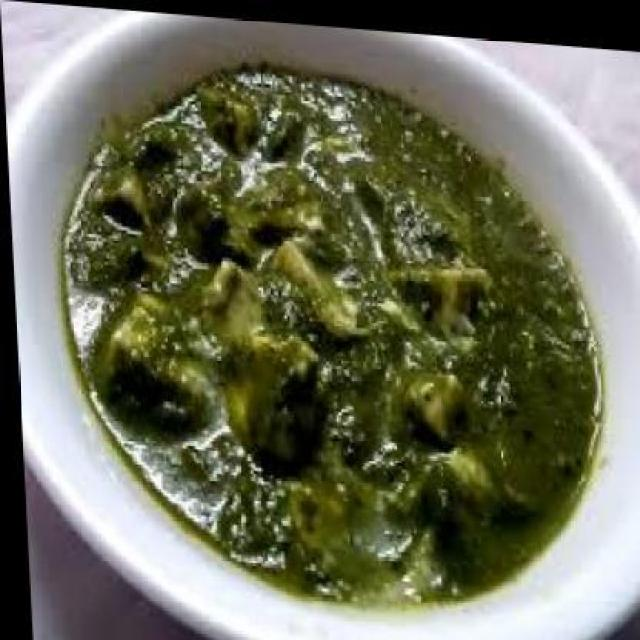palak_paneer: (51, 45, 604, 617)
